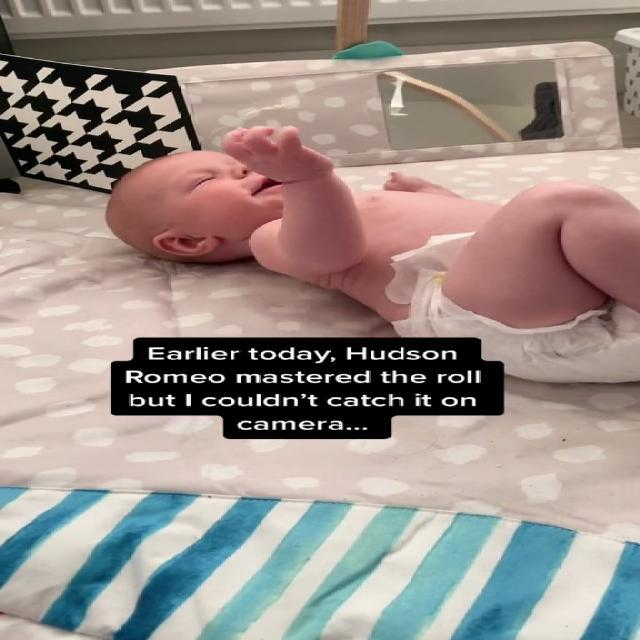baby: (92, 123, 640, 390)
